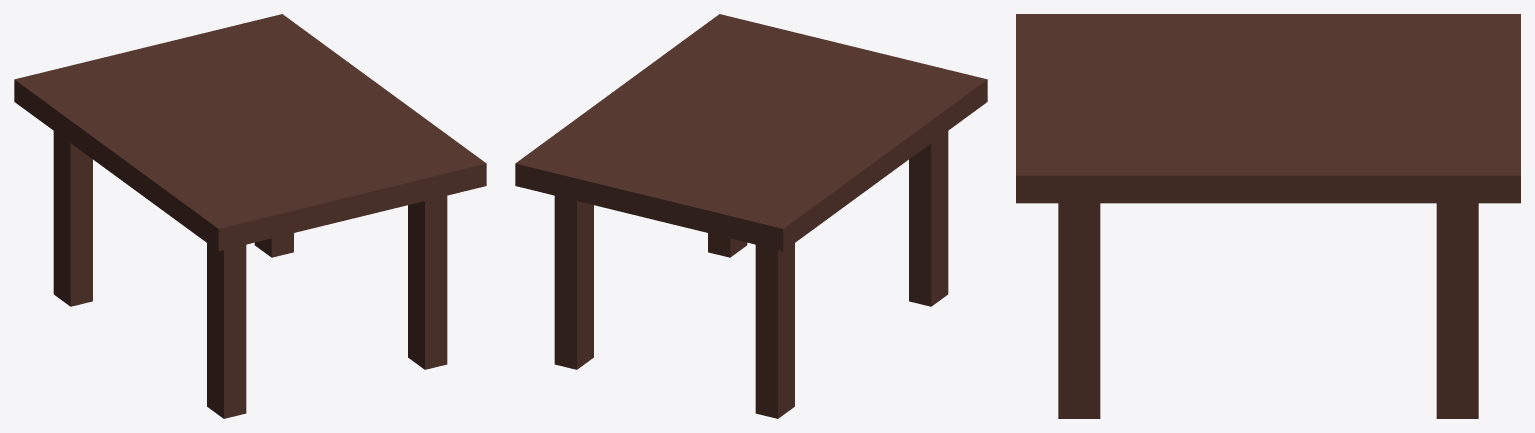
File: table.glb
3 renders of one model, left to right at view 1: azimuth 30°, elevation 25°; view 2: azimuth 150°, elevation 25°; view 3: azimuth 270°, elevation 25°, orthographic. The views are drawn at different scales.
Visible parts, largest first — view 1: Cube; view 2: Cube; view 3: Cube.
Part boxes in pixels (x1,y1,x2,y2): Cube: [14, 14, 486, 418]; Cube: [515, 14, 987, 418]; Cube: [1016, 14, 1520, 418].
Bounding box in the file's own units: 1 × 0.7412 × 1.32.
